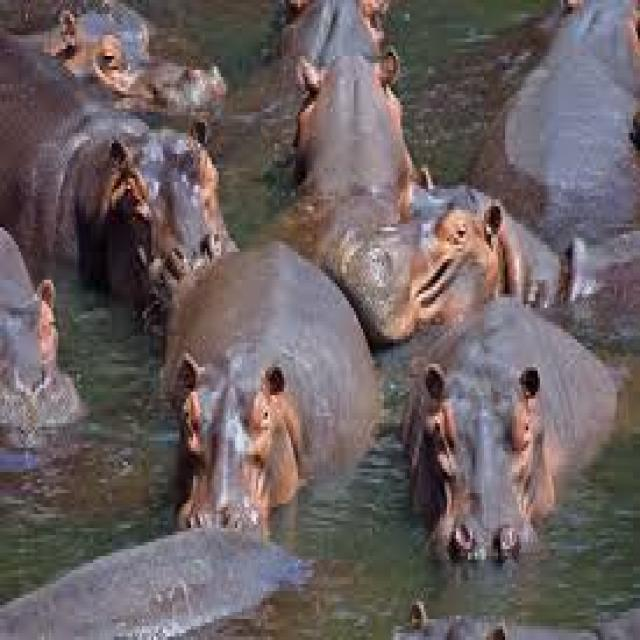Hippopotamus: (399, 292, 640, 572), (159, 233, 377, 541), (0, 28, 237, 301), (290, 48, 441, 310)
